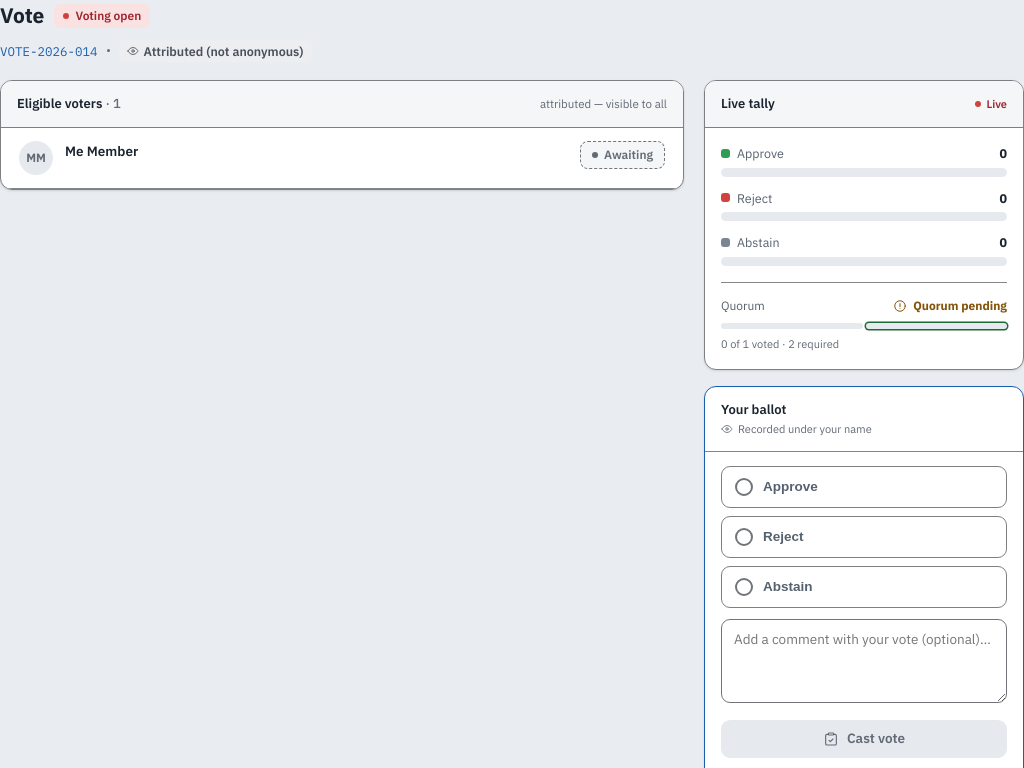
Test: VotePage (P9b) › open: a failed cast closes the dialog and surfaces the server reason
The image size is (1024, 768).
What coordinates should you click on to do the following:
click the radio button labelled "Approve"
I would click on:
 (790, 486)
Its box is left=721, top=466, right=1007, bottom=508.
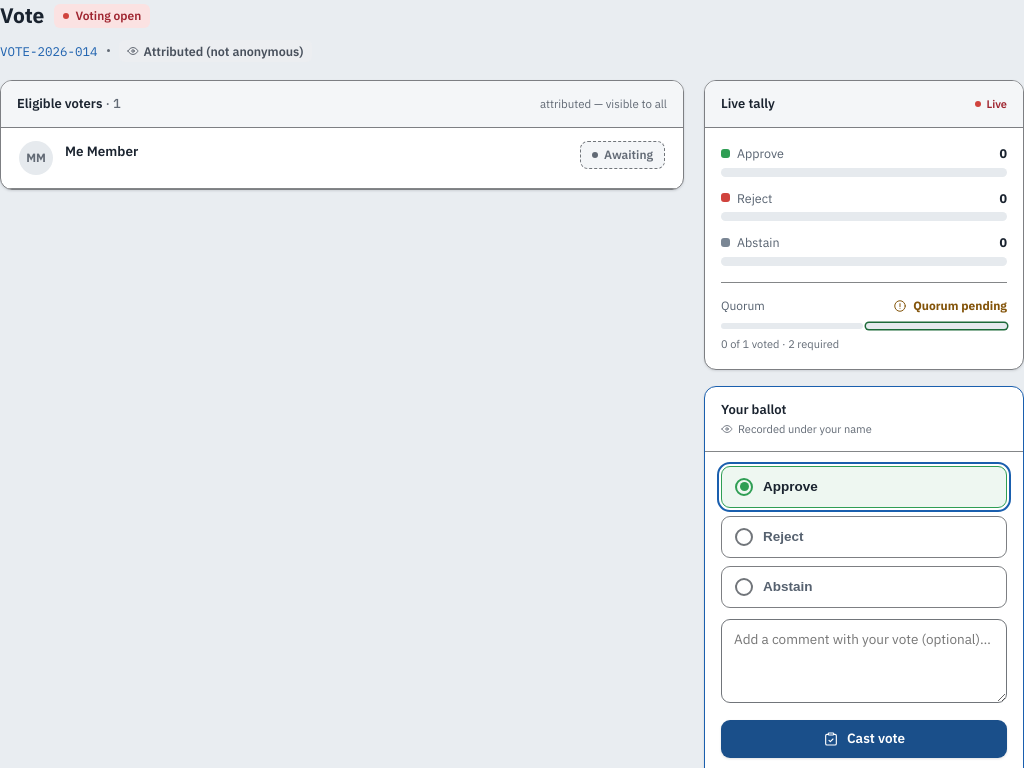
What coordinates should you click on to do the following:
click the button "Cast vote"
I would click on:
 (864, 738)
Its box is left=721, top=720, right=1007, bottom=758.
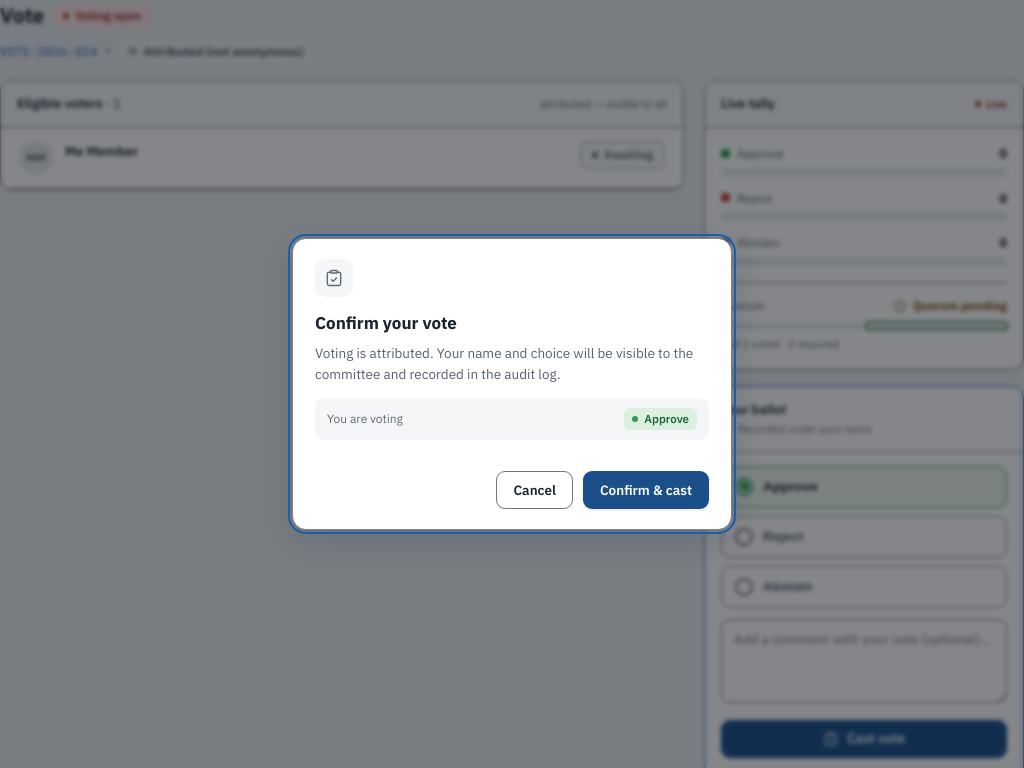
What coordinates should you click on to do the following:
click the button "Confirm & cast"
I would click on:
 (646, 490)
Its box is left=583, top=471, right=709, bottom=509.
(page scrolled)
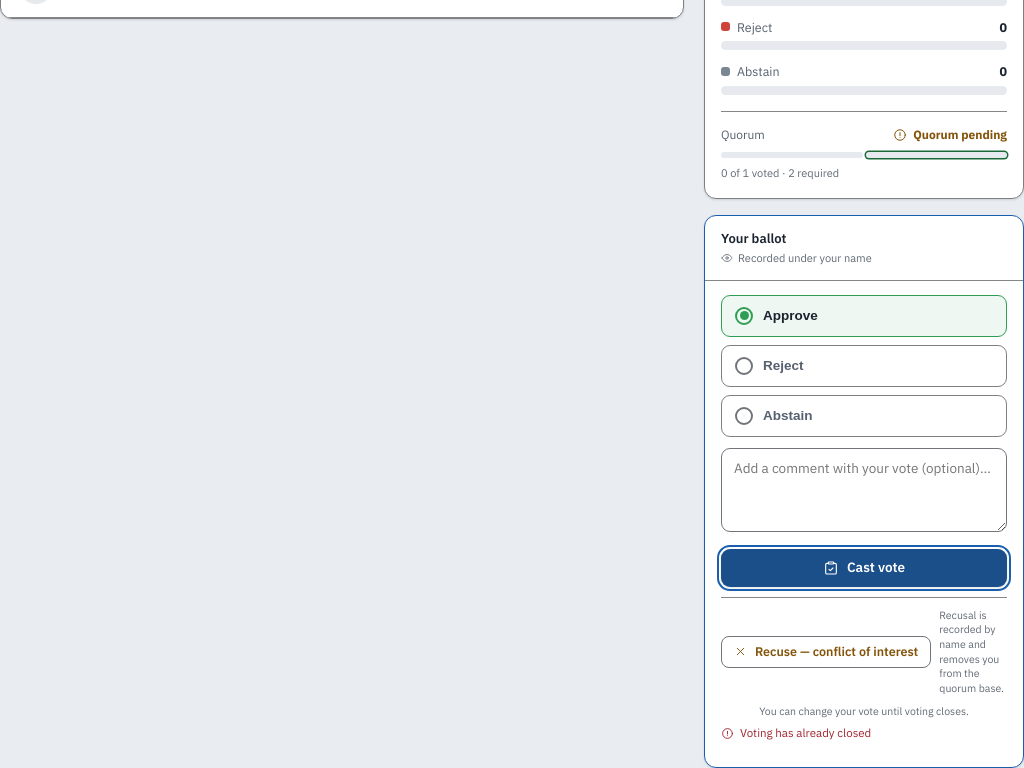
Check: the message shows "already closed", box left=740, top=725, right=871, bottom=740
Check: the dialog is gone
